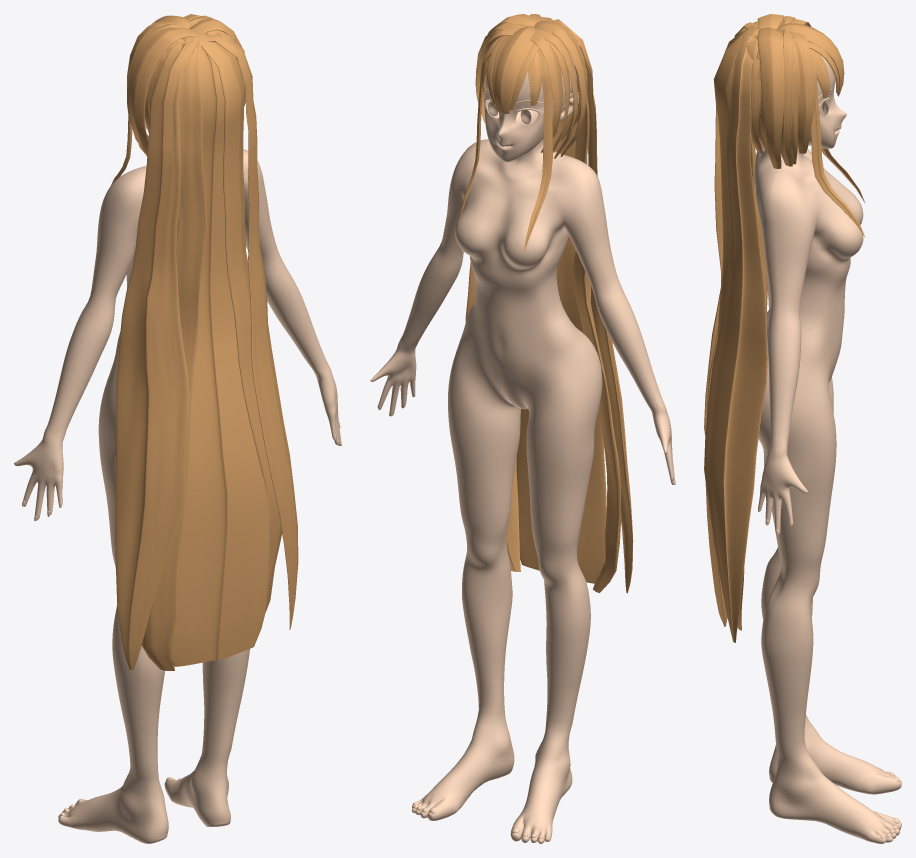
File: BaseHair.fbx
3 views of the same model, side by side, from view 1: azimuth 30°, elevation 25°; view 2: azimuth 150°, elevation 25°; view 3: azimuth 270°, elevation 25° (orthographic). The views are drawn at different scales.
Visible parts, largest first — view 1: FHair, BodyComplete; view 2: BodyComplete, FHair; view 3: BodyComplete, FHair.
Part boxes in pixels (box(x1,y1,x2,y2)): FHair: box(111, 14, 298, 670); BodyComplete: box(14, 118, 341, 843); BodyComplete: box(370, 51, 675, 843); FHair: box(455, 14, 633, 593); BodyComplete: box(754, 55, 901, 843); FHair: box(704, 14, 865, 642).
Size of the model in its own units: 109 by 272 by 61.73.
